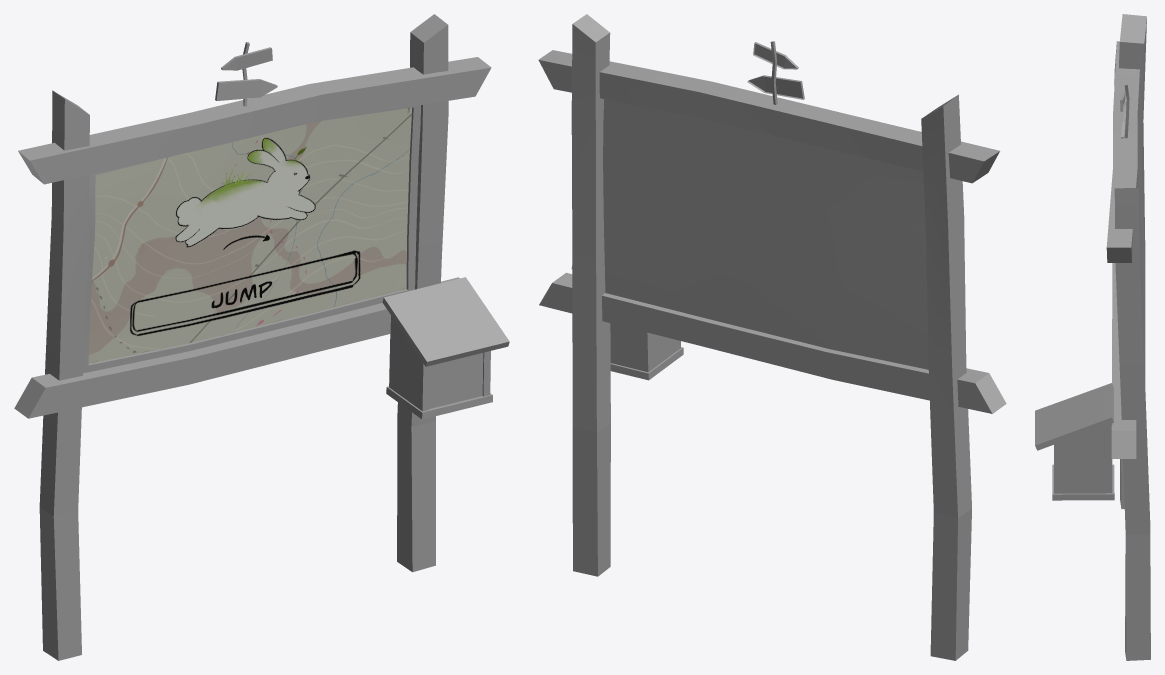
File: Post_small_jump.fbx
The picture shows the model from 3 angles, left to right: view 1: azimuth 30°, elevation 25°; view 2: azimuth 150°, elevation 25°; view 3: azimuth 270°, elevation 25°; orthographic projection. The views are drawn at different scales.
Parts seen in each view (by area): view 1: Post_Small; view 2: Post_Small; view 3: Post_Small.
Part boxes in pixels (bbox=[...]): Post_Small: bbox=[14, 14, 509, 660]; Post_Small: bbox=[538, 14, 1006, 660]; Post_Small: bbox=[1035, 14, 1150, 660].
Size of the model in its own units: 4.77 by 5.63 by 1.19.
2 materials, 1 textured.
